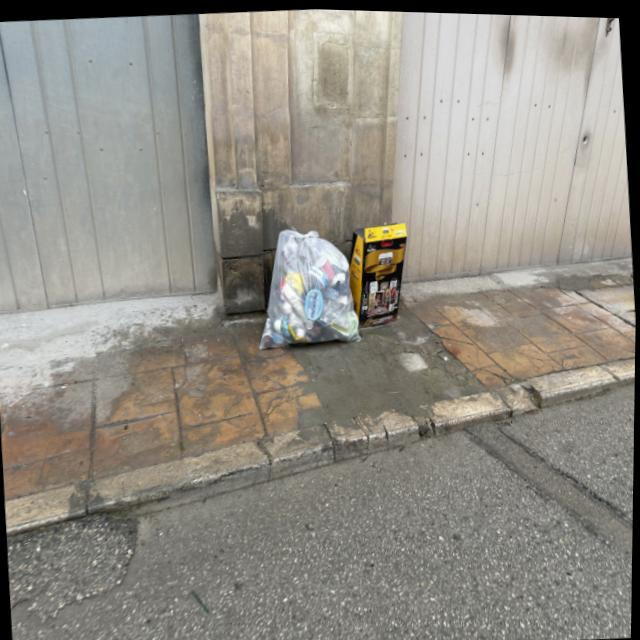Others Waste: (350, 219, 408, 325)
Recyclable Material -Grey Bags-: (260, 223, 364, 347)
